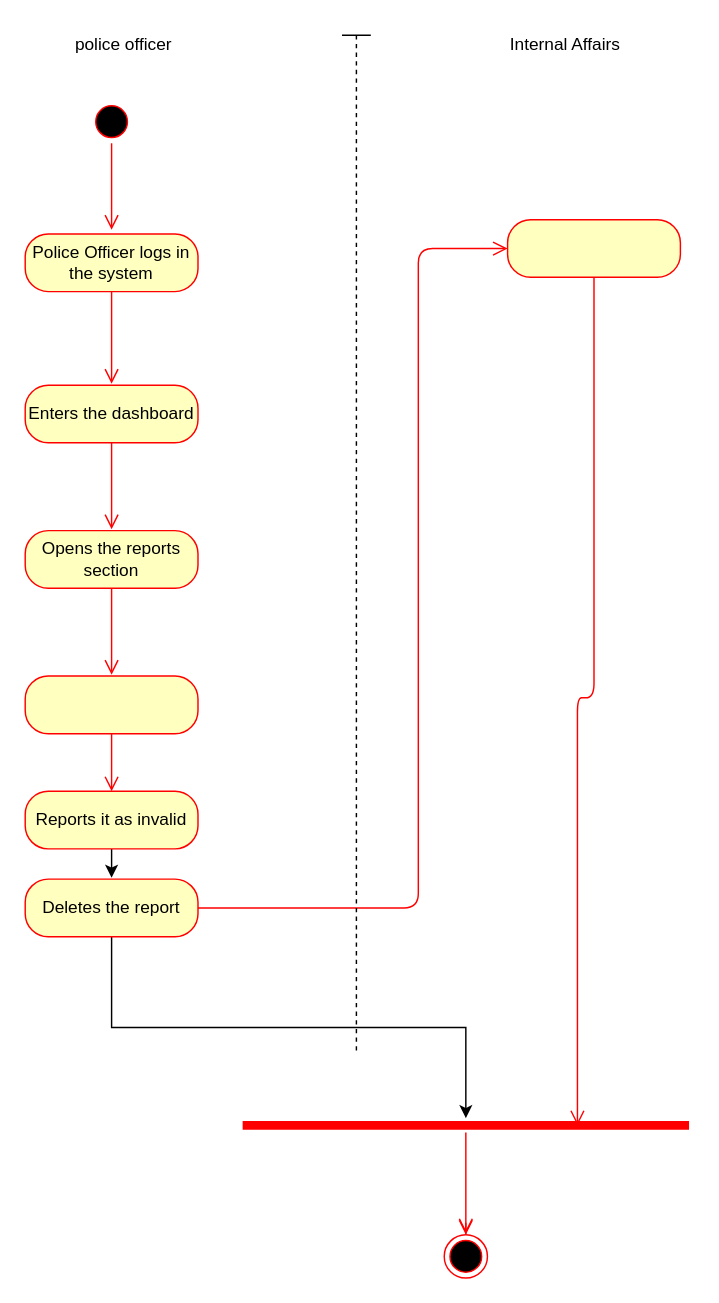
This 719x1303 diagram has some shape labels left out. Each missing label, with the centre of its shape:
"Chooses the intended report" goes at (111,704).
"Receive notification if a police officer deletes a report" goes at (593,247).
